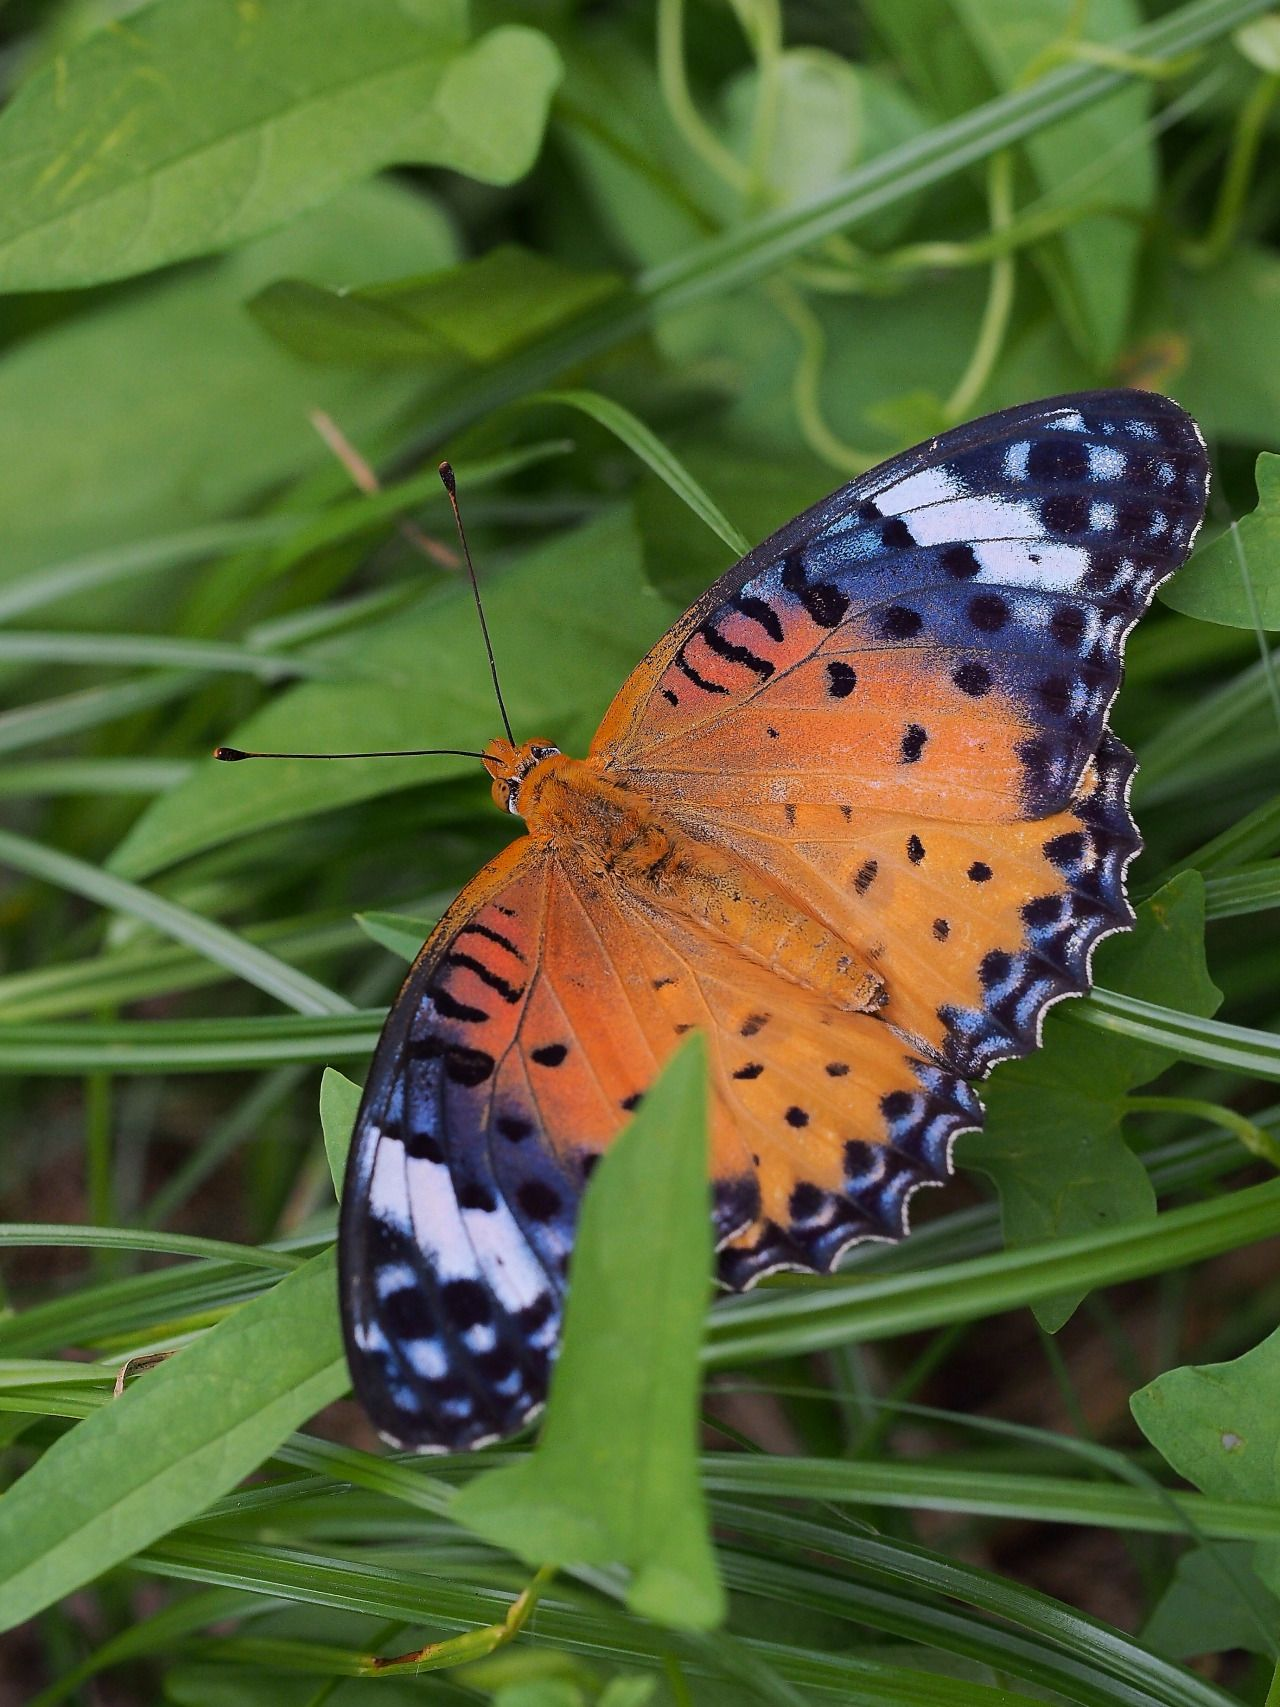Argyreus hyperbius: (216, 376, 1215, 1462)
butterfly: (219, 378, 1217, 1465)
